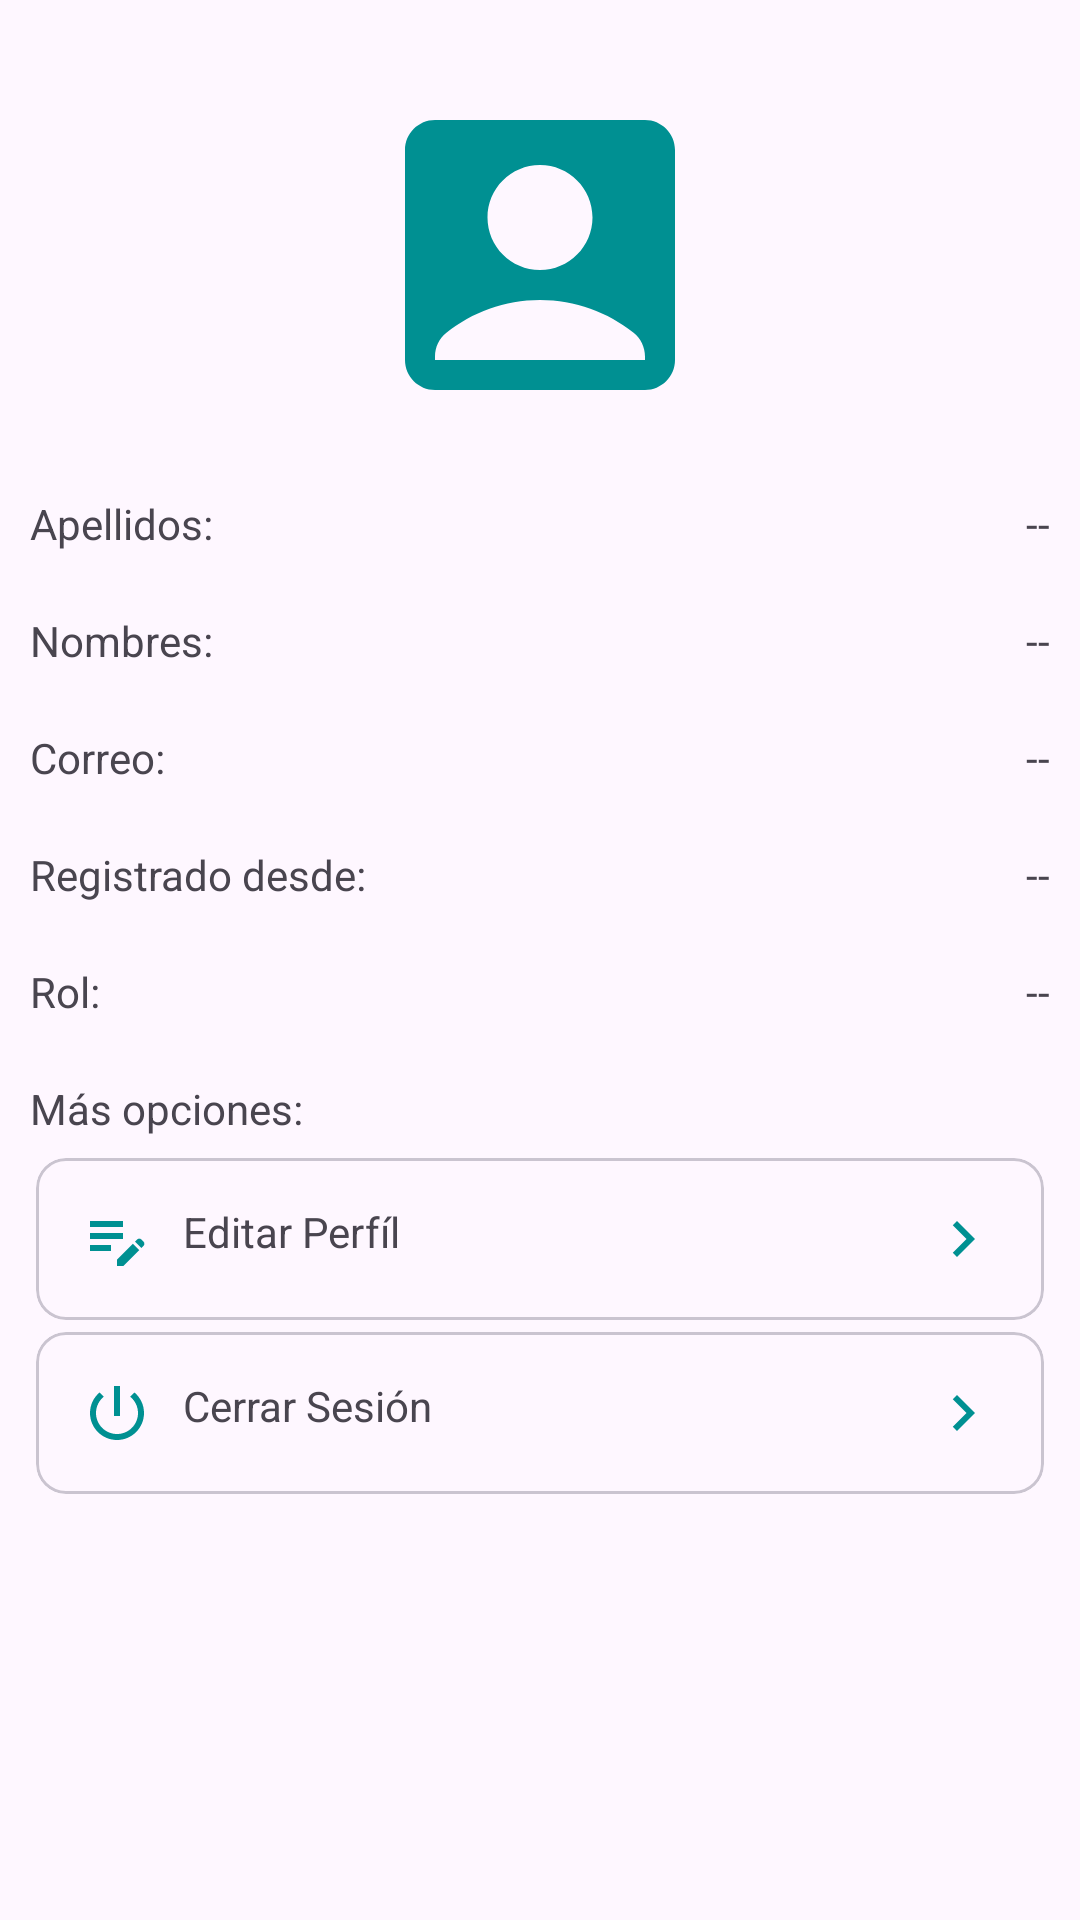

Icons on this 1080×1920 Android screen, each with the point to tap as [x,y]:
perfil cuenta: [540,255]
